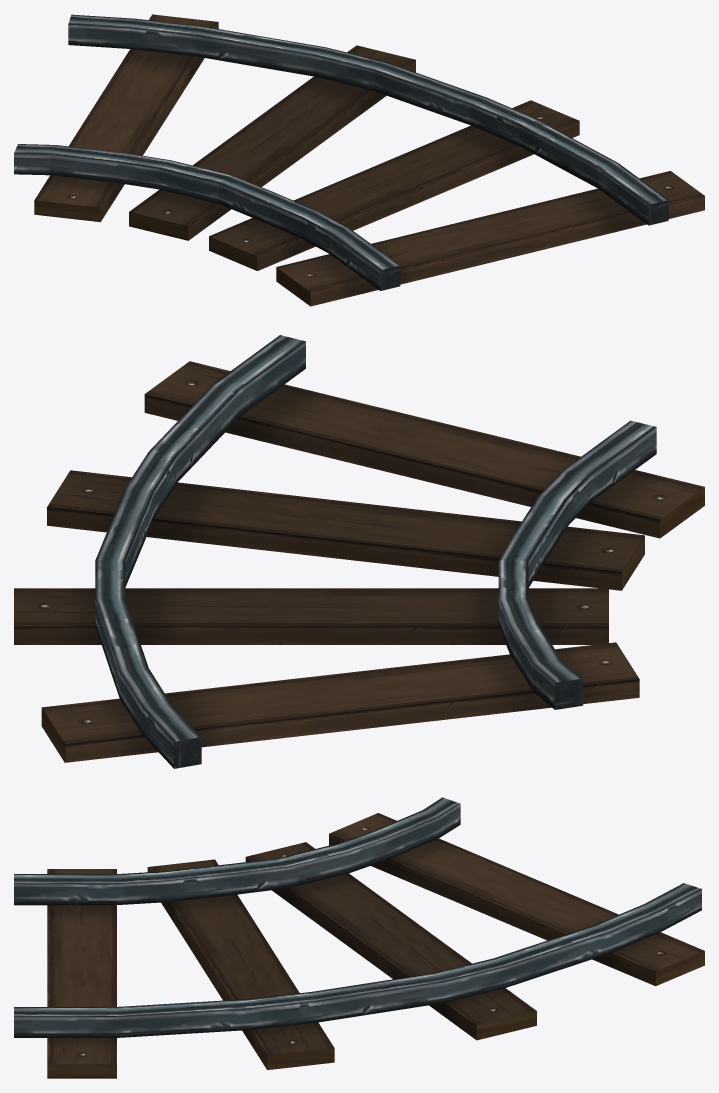
File: rail6.FBX
3 renders of one model, top to bottom at view 1: azimuth 30°, elevation 25°; view 2: azimuth 150°, elevation 25°; view 3: azimuth 270°, elevation 25°, orthographic. The views are drawn at different scales.
Visible parts, largest first — view 1: rail6; view 2: rail6; view 3: rail6.
Part boxes in pixels (x1,y1,x2,y2): rail6: (14,14,704,306); rail6: (14,335,704,768); rail6: (14,797,704,1078).
Bounding box in the file's own units: 153 × 10.19 × 178.
